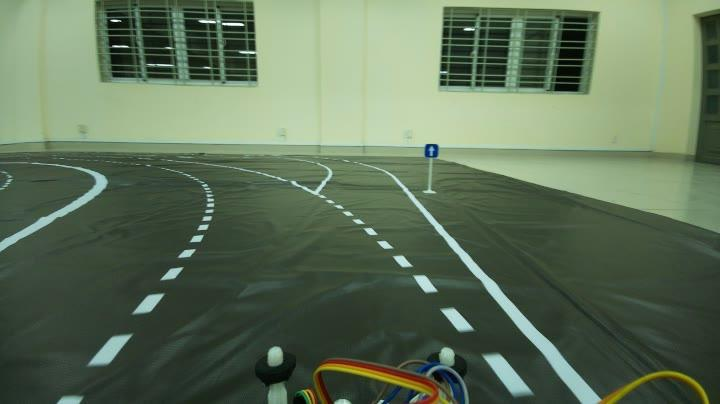onewayroad: (422, 138, 439, 162)
